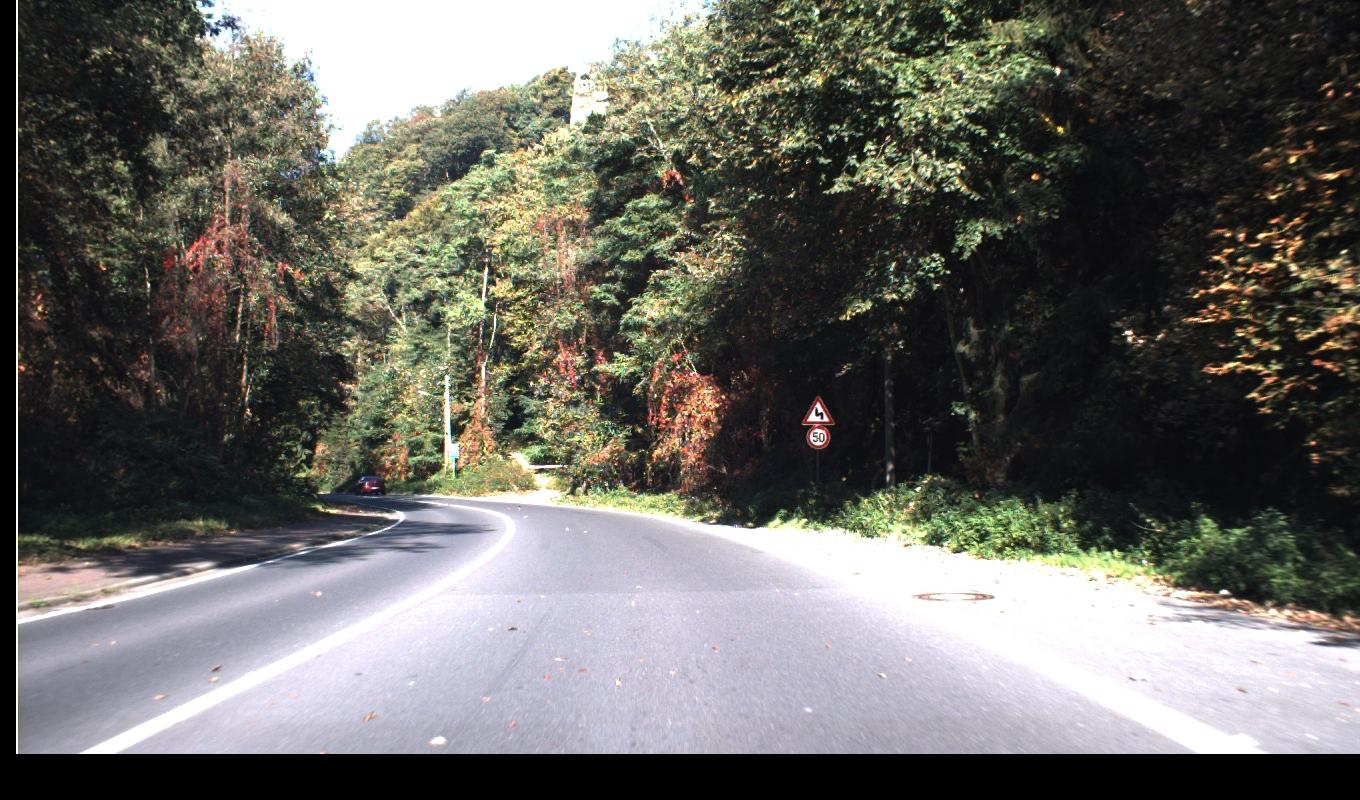bend: (800, 394, 835, 449)
